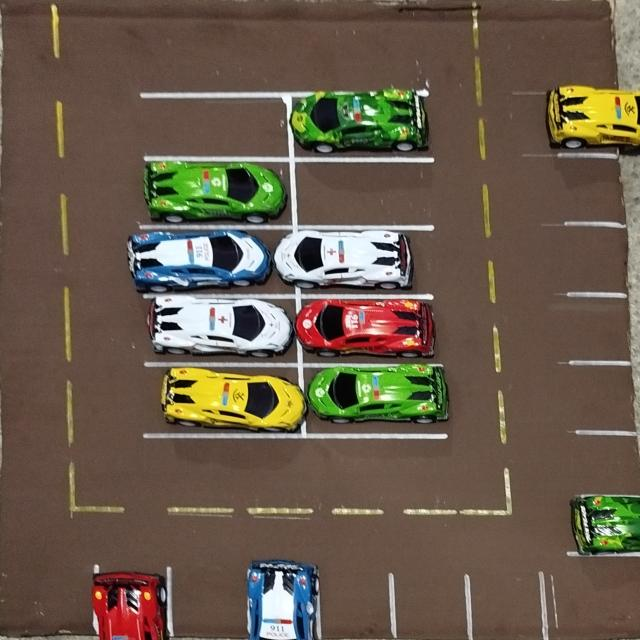libre: (140, 95, 291, 159), (293, 160, 434, 228), (1, 568, 92, 640), (559, 152, 640, 225), (169, 568, 249, 640), (466, 571, 546, 640), (568, 361, 640, 433), (565, 225, 640, 294), (315, 574, 395, 638), (567, 292, 640, 362), (392, 573, 468, 640), (571, 432, 640, 495)
no_estacionarse: (547, 557, 640, 640)
ocupado: (142, 364, 304, 436), (304, 361, 448, 439), (141, 296, 300, 364), (139, 158, 292, 227), (294, 226, 432, 296), (294, 296, 440, 362), (294, 93, 432, 159), (138, 228, 294, 284), (550, 88, 640, 154), (249, 560, 319, 640), (93, 569, 169, 640), (566, 495, 640, 555)
